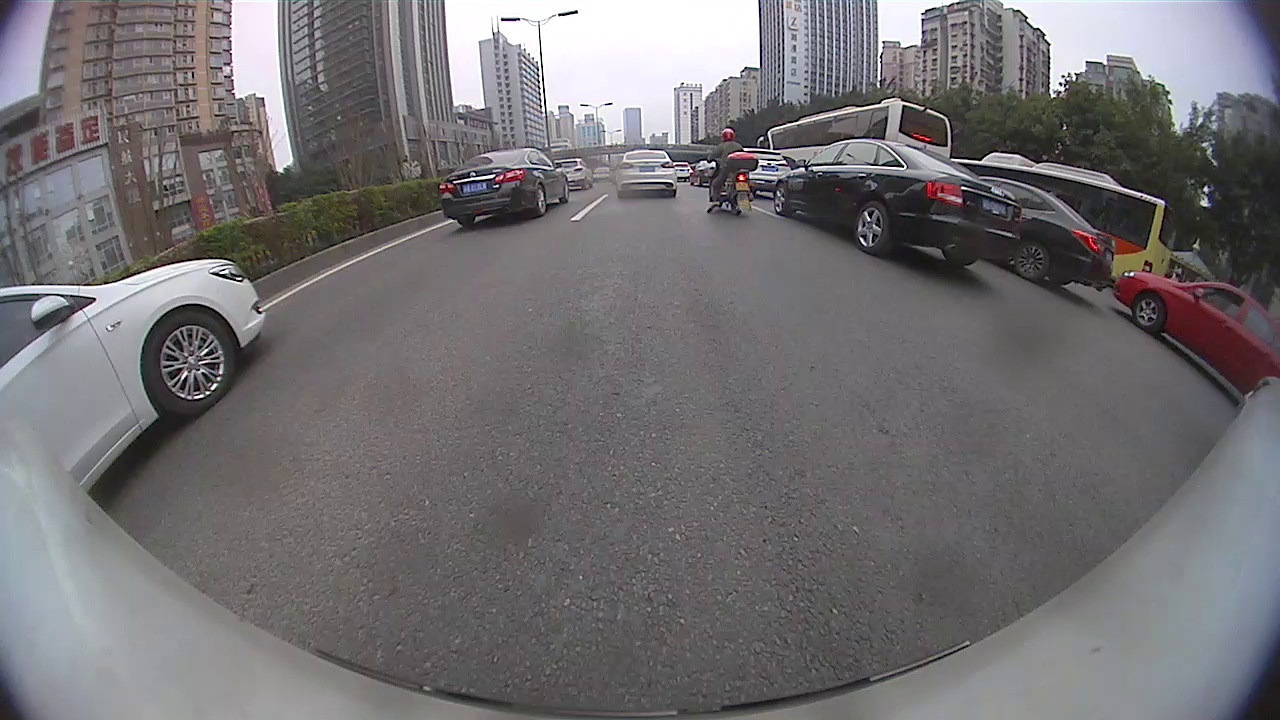car: (0, 258, 271, 503), (775, 140, 1021, 269), (1121, 271, 1279, 391), (973, 174, 1115, 295), (440, 147, 569, 226), (619, 150, 678, 197)
front: (143, 310, 238, 417), (1131, 292, 1163, 331), (772, 185, 790, 214), (563, 178, 571, 200)
rear: (853, 200, 892, 253), (1014, 240, 1049, 281), (534, 184, 546, 213)
rider: (707, 130, 757, 214)
